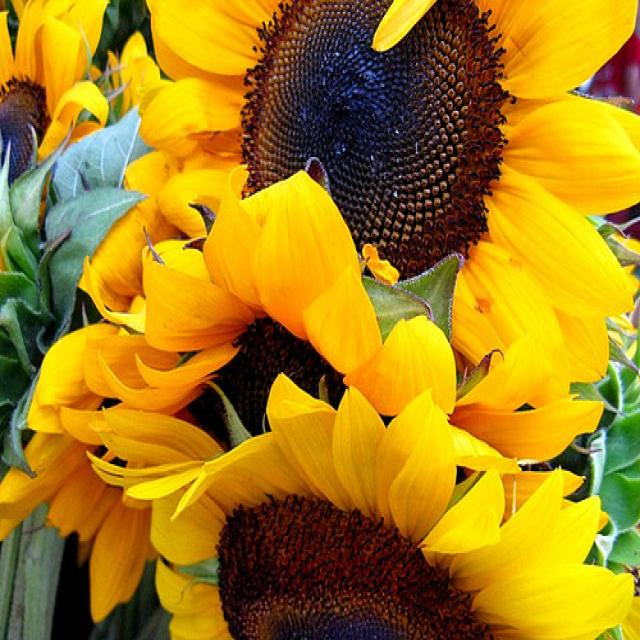sunflower: (121, 0, 640, 452), (137, 365, 640, 640), (0, 0, 110, 193)
